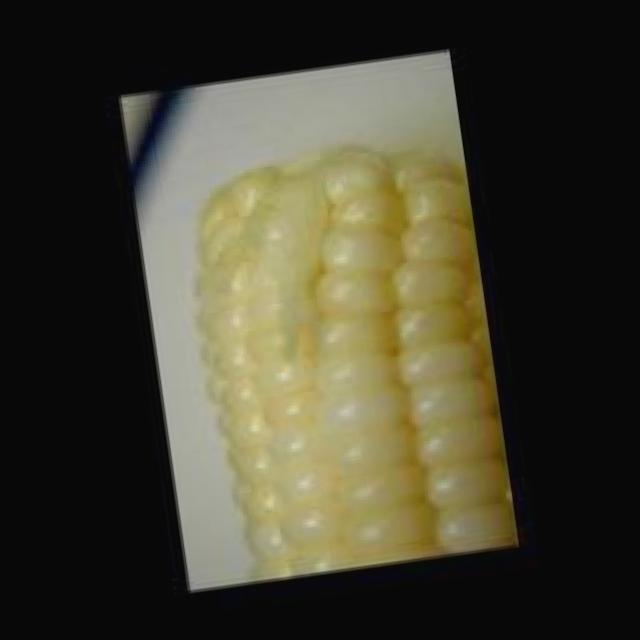corn: (190, 121, 519, 580)
